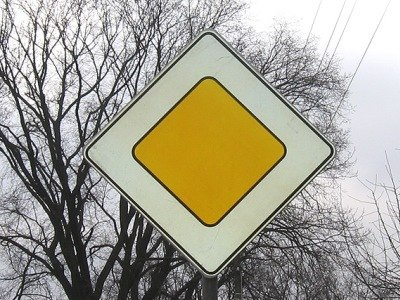priority_road: (107, 47, 309, 251)
